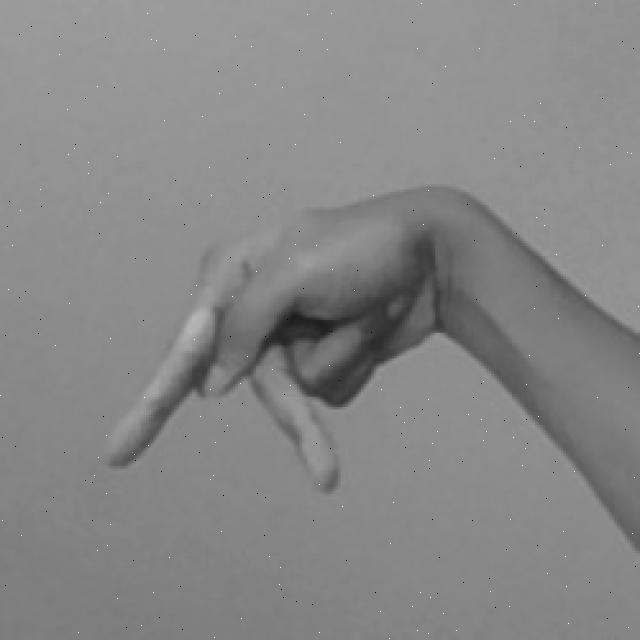P: (100, 176, 640, 596)
